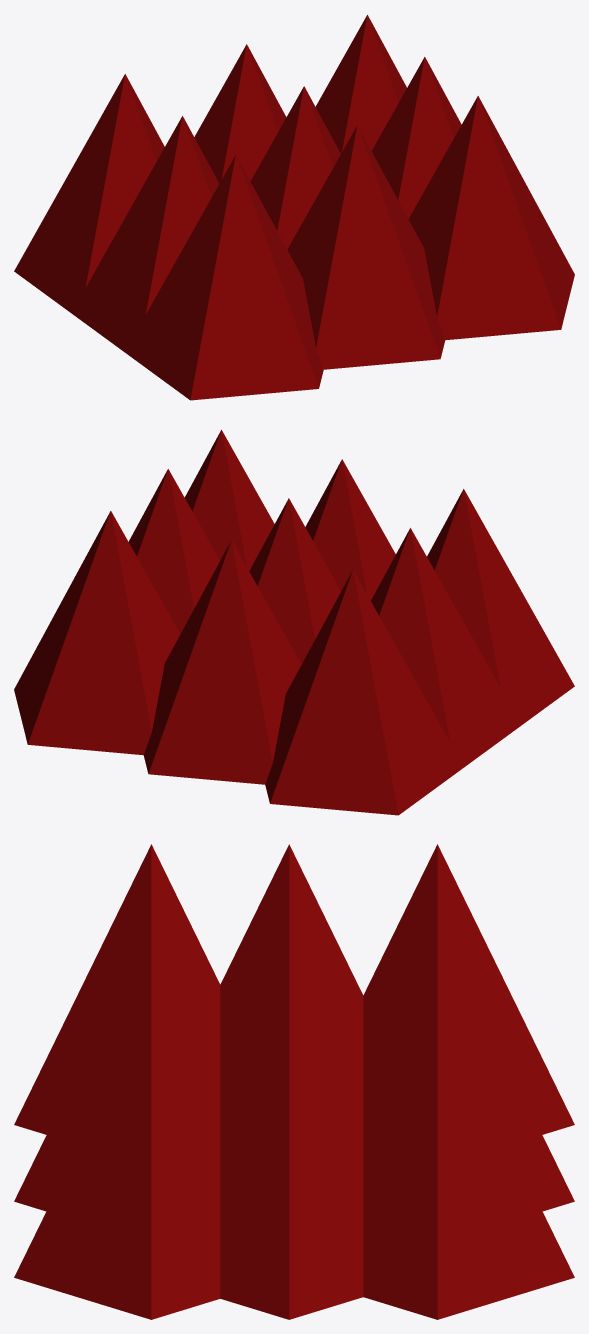
Rendered from spikes.fbx.
The picture shows the model from 3 angles, top to bottom: view 1: azimuth 30°, elevation 25°; view 2: azimuth 150°, elevation 25°; view 3: azimuth 270°, elevation 25°; orthographic projection. The views are drawn at different scales.
Parts seen in each view (by area): view 1: pCone10; view 2: pCone10; view 3: pCone10.
Boxes of the visible parts, x1=… form: pCone10: x1=14, y1=15, x2=574, y2=400; pCone10: x1=14, y1=430, x2=574, y2=815; pCone10: x1=14, y1=844, x2=574, y2=1319.
Size of the model in its own units: 4.31 by 2 by 3.88.
